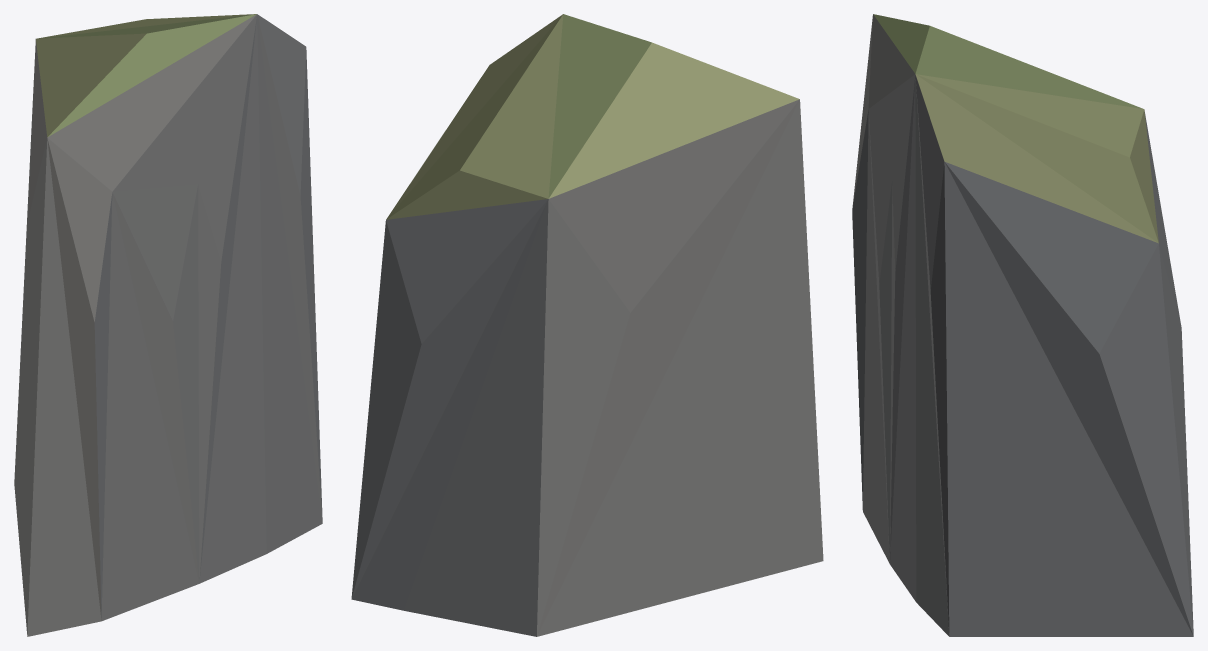
The model's file is cliff_front_columns.glb.
3 renders of one model, left to right at view 1: azimuth 30°, elevation 25°; view 2: azimuth 150°, elevation 25°; view 3: azimuth 270°, elevation 25°, orthographic. The views are drawn at different scales.
Visible parts, largest first — view 1: cliff_front_columns; view 2: cliff_front_columns; view 3: cliff_front_columns.
Part boxes in pixels (left/top/right/bottom): cliff_front_columns: left=14, top=14, right=322, bottom=636; cliff_front_columns: left=351, top=14, right=823, bottom=636; cliff_front_columns: left=852, top=14, right=1193, bottom=636.
Size of the model in its own units: 42.04 by 64 by 37.83.
